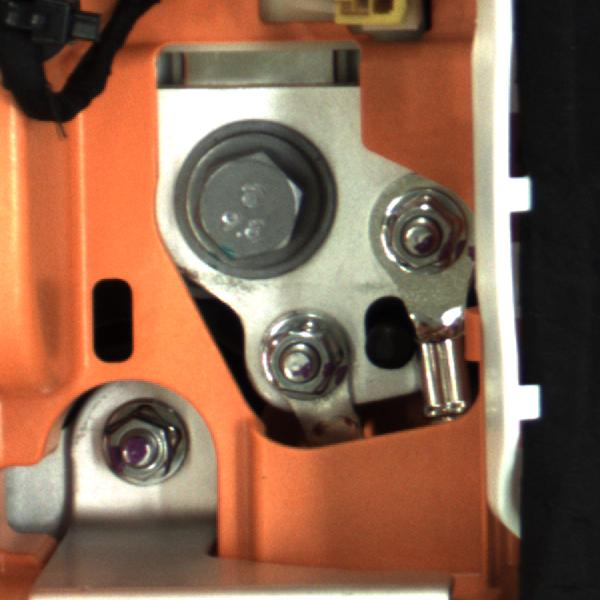nut_b: (152, 126, 333, 276)
screw_s: (259, 311, 366, 416), (377, 189, 472, 285), (99, 405, 205, 486)
